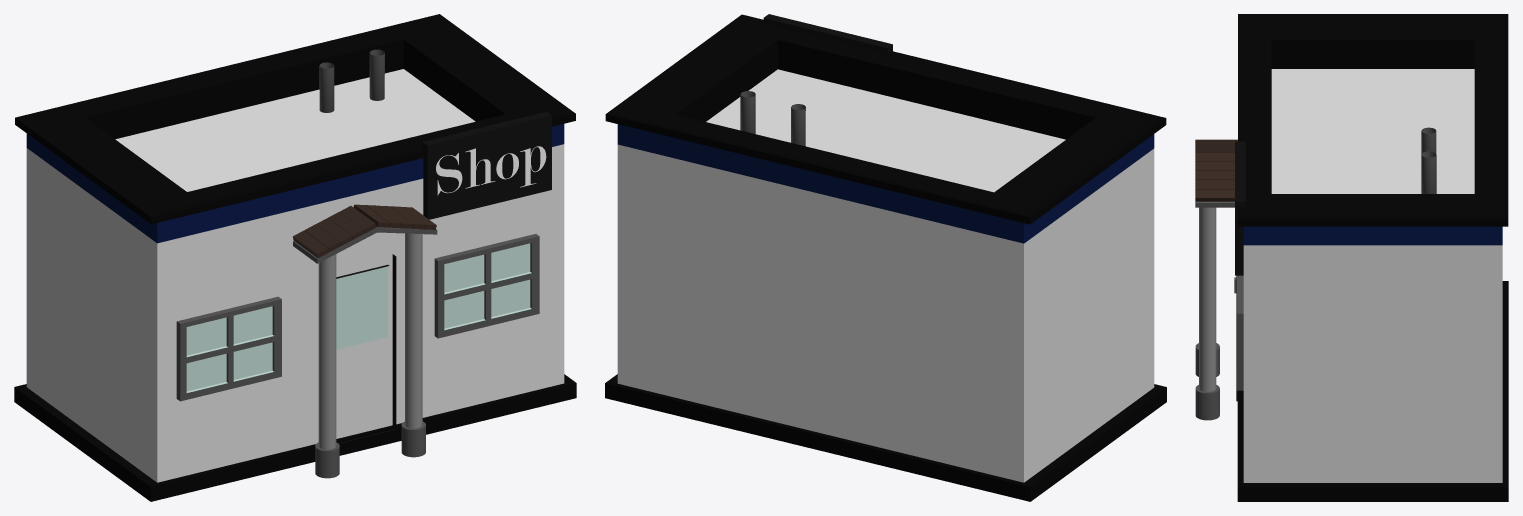
Rendered from Shop.fbx.
3 views of the same model, side by side, from view 1: azimuth 30°, elevation 25°; view 2: azimuth 150°, elevation 25°; view 3: azimuth 270°, elevation 25° (orthographic).
Parts seen in each view (by area): view 1: Cube, Cube.022, Cube.021, Cube.016, Cube.020, Cube.001, Cube.003, Cube.018, Cube.017, Cube.019, Cylinder.002, Cylinder.003 (+7 smaller); view 2: Cube, Cube.022, Cube.021, Cube.020, Cube.016, Cylinder; view 3: Cube, Cube.022, Cube.021, Cube.020, Cylinder.003, Cube.016, Cube.018, Cylinder.005, Cylinder, Cube.005, Cube.007, Cylinder.001 (+3 smaller).
Boxes of the visible parts, x1,y1,x2,y2 form: Cube: (26, 69, 564, 482); Cube.022: (15, 14, 575, 224); Cube.021: (14, 374, 576, 501); Cube.016: (422, 111, 551, 219); Cube.020: (26, 124, 564, 243); Cube.001: (186, 306, 273, 392); Cube.003: (444, 243, 531, 330); Cube.018: (434, 234, 539, 338); Cube.017: (176, 296, 281, 401); Cube.019: (336, 266, 387, 349); Cylinder.002: (318, 254, 336, 449); Cylinder.003: (405, 233, 422, 428); Cube: (617, 69, 1154, 482); Cube.022: (605, 14, 1166, 224); Cube.021: (605, 374, 1166, 501); Cube.020: (617, 124, 1154, 243); Cube.016: (763, 14, 892, 53); Cylinder: (740, 91, 755, 133); Cube: (1243, 69, 1502, 482); Cube.022: (1238, 14, 1508, 226); Cube.021: (1237, 281, 1508, 501); Cube.020: (1243, 226, 1502, 245); Cylinder.003: (1199, 207, 1216, 391); Cube.016: (1235, 141, 1245, 275); Cube.018: (1236, 275, 1243, 390); Cylinder.005: (1195, 385, 1219, 420); Cylinder: (1421, 151, 1436, 193); Cube.005: (1195, 189, 1234, 201); Cube.007: (1195, 180, 1234, 189); Cylinder.001: (1421, 127, 1436, 153).
Bounding box in the file's own units: 377 × 242 × 254.
